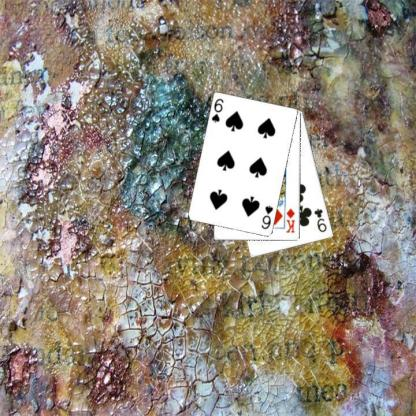6S: (209, 96, 225, 124), (259, 203, 274, 230)
9C: (312, 206, 328, 233)
KD: (284, 206, 296, 234)
